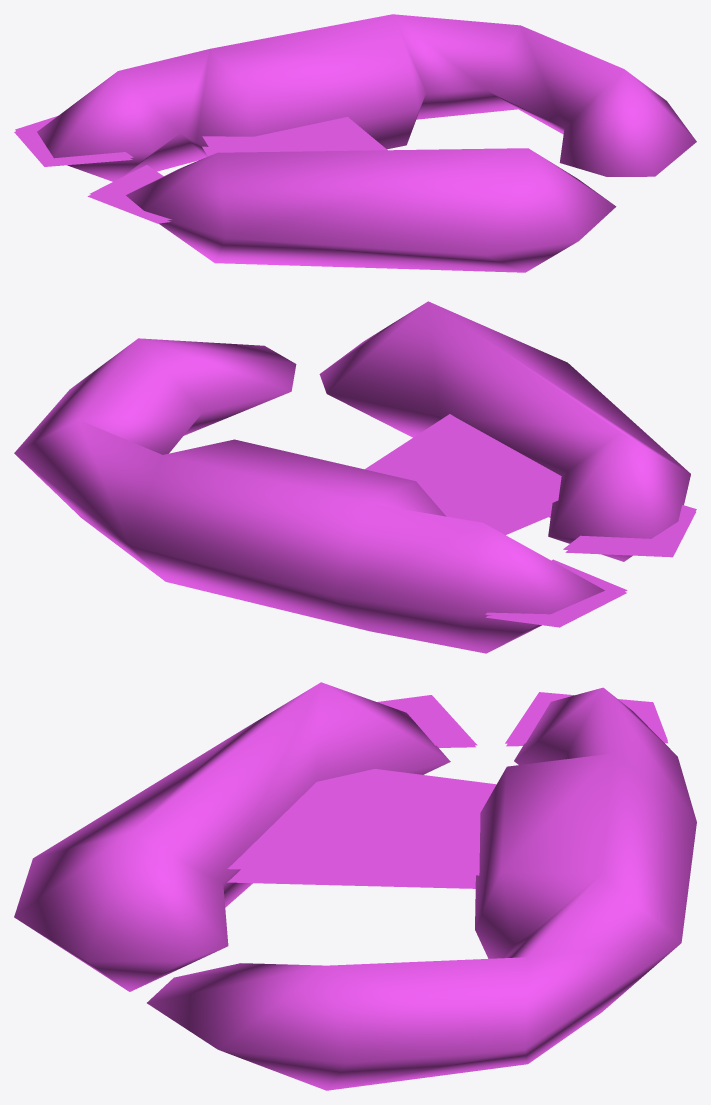
The model's file is plasma_pistol_L_01.fbx.
3 views of the same model, one above another, from view 1: azimuth 30°, elevation 25°; view 2: azimuth 150°, elevation 25°; view 3: azimuth 270°, elevation 25° (orthographic). The views are drawn at different scales.
Visible parts, largest first — view 1: Object003; view 2: Object003; view 3: Object003.
Part boxes in pixels (x1,y1,x2,y2): Object003: (14, 14, 696, 272); Object003: (14, 301, 696, 653); Object003: (14, 682, 696, 1090).
Size of the model in its own units: 0.0231 by 0.00498 by 0.0191.
